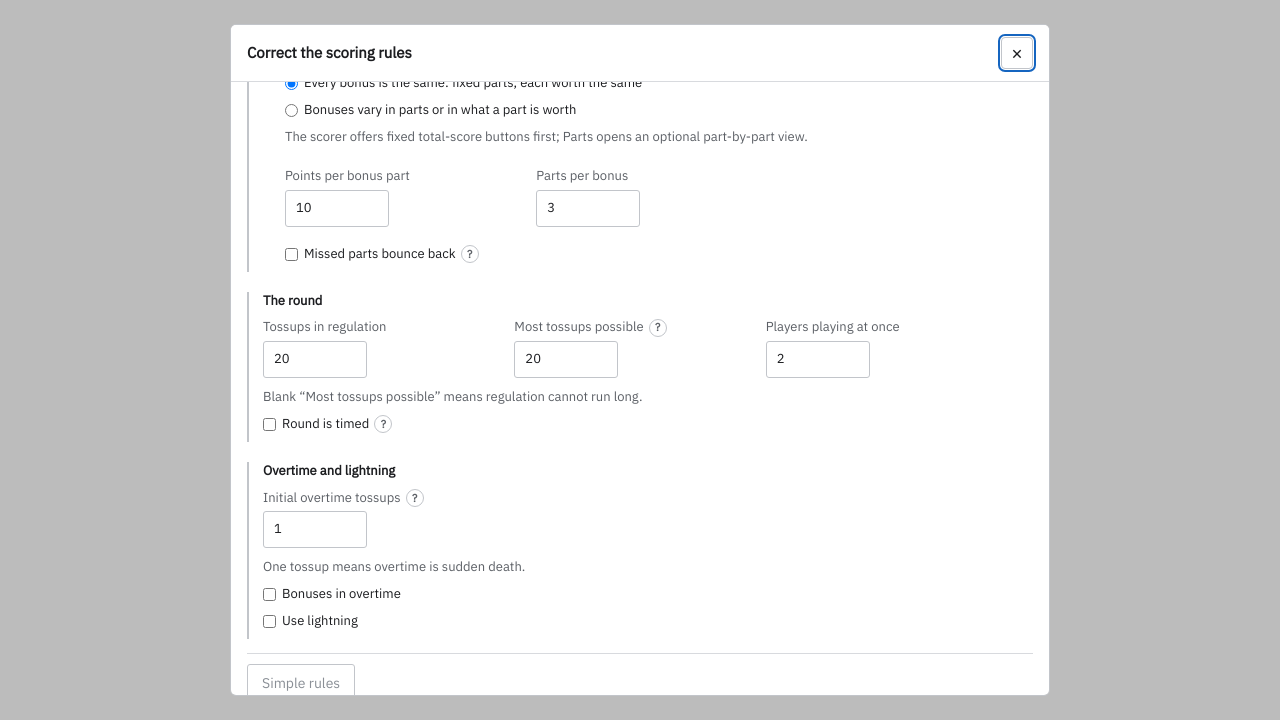
Test: the form step › says which field is wrong rather than only disabling the button
The image size is (1280, 720).
(page scrolled)
Clear the number field labelled "Tossups in regulation" at (315, 360), box [263,341,367,378]
(page scrolled)
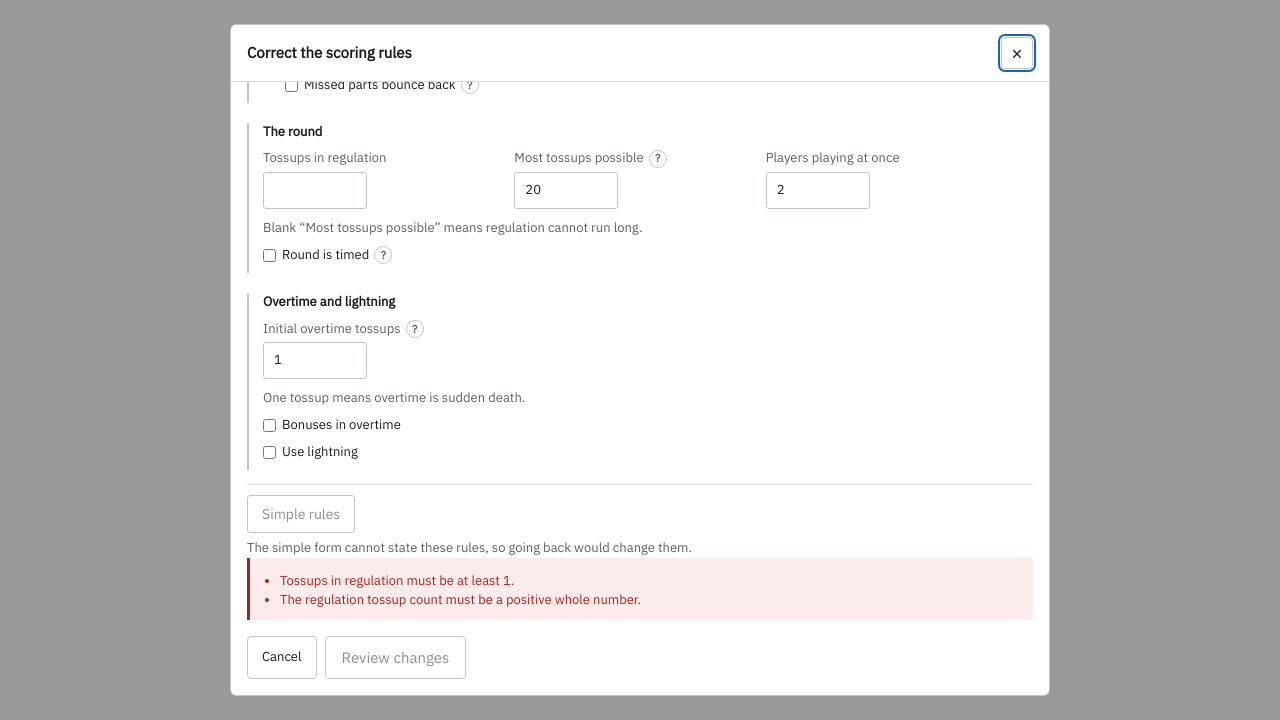
Result: the message shows "Tossups in regulation must be at least 1" at [280,572,514,589]
Result: the button "Review changes" is disabled at [324,636,466,679]
